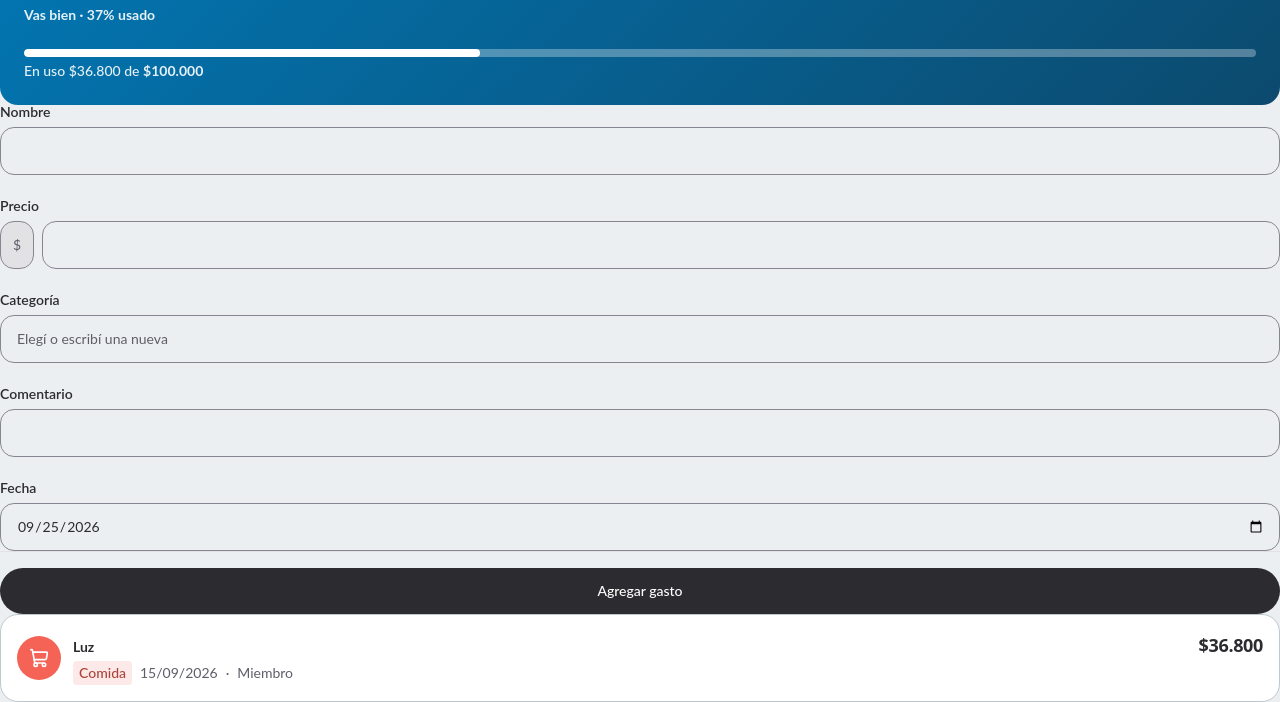
EditExpenseFlow › says why the credit cards are not among the methods offered
The width and height of the screenshot is (1280, 702).
(page scrolled)
What coordinates should you click on to do the following:
click the button with aria-label "Editar Luz"
I would click on:
 (39, 658)
Its box is [0,614,1279,701].
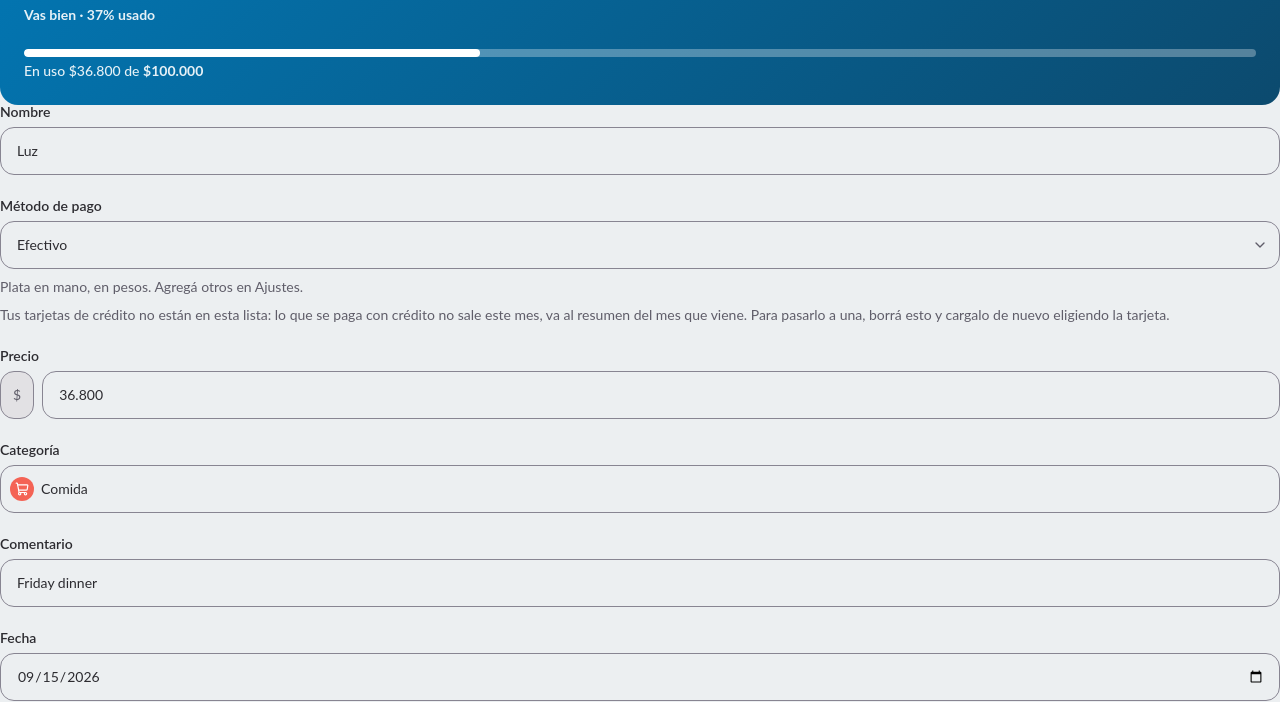
Now the text "tarjetas de crédito no están en esta lista" is shown, box [0,306,1170,322]
